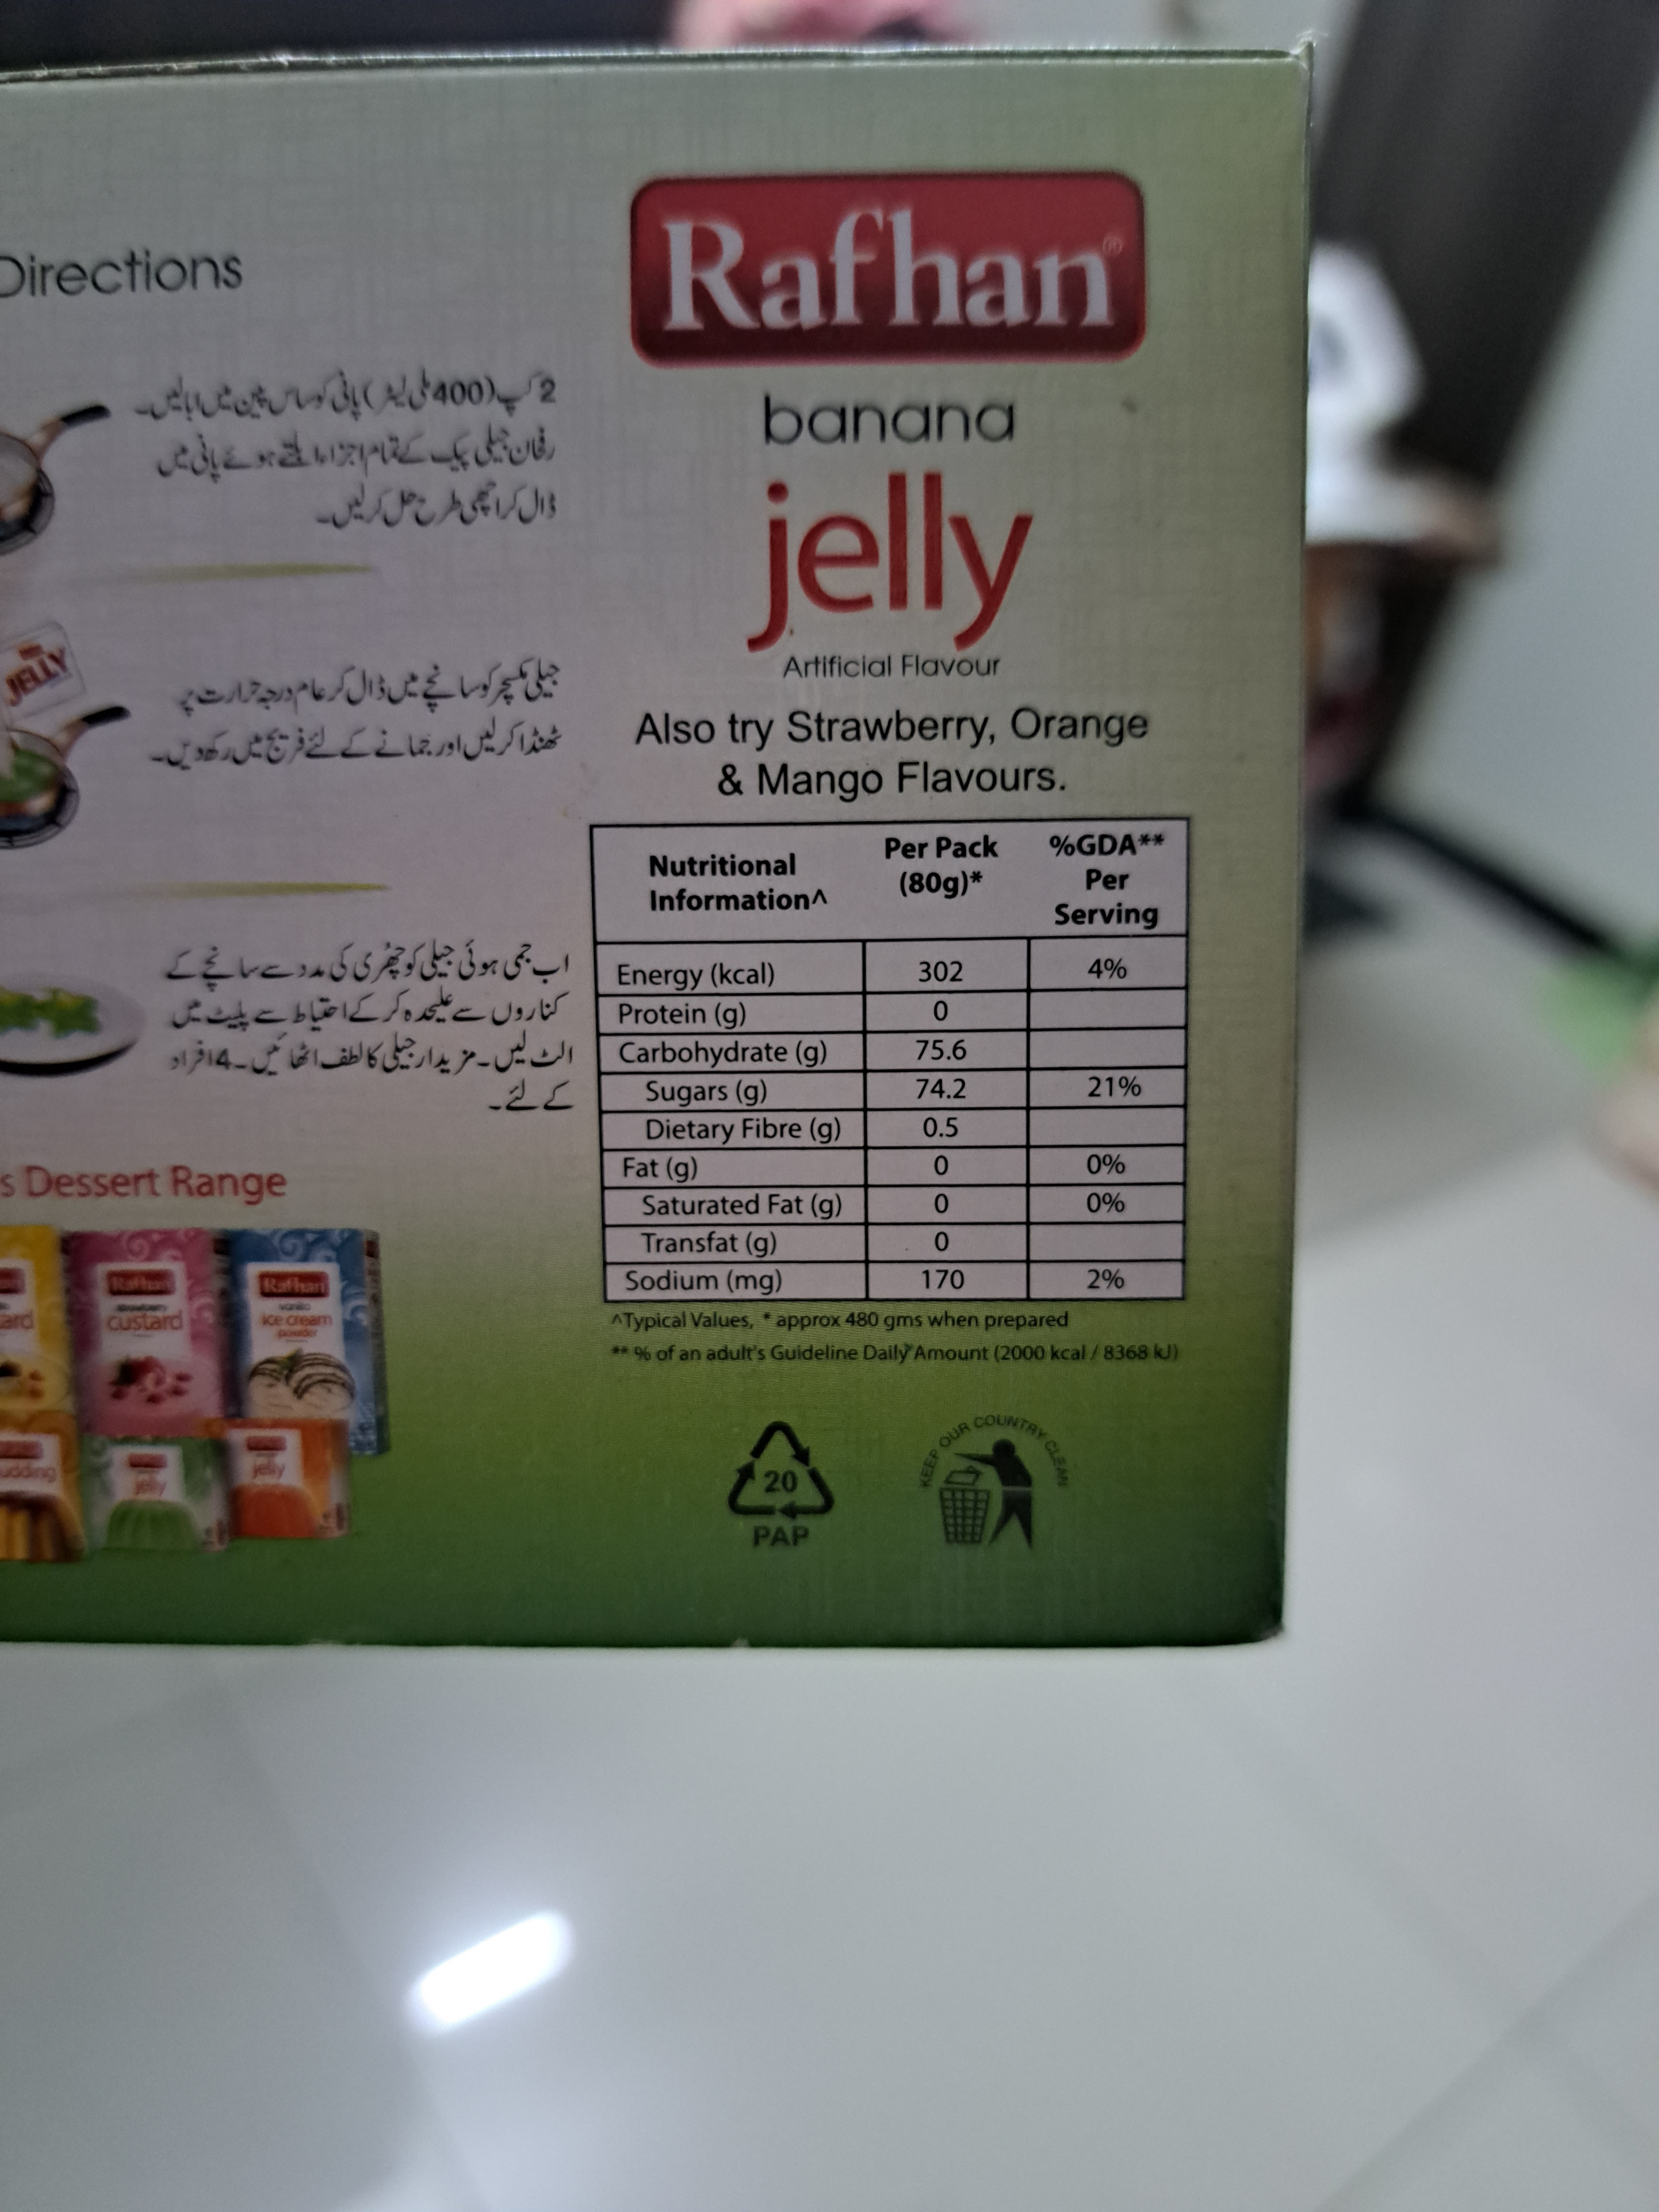table: (582, 817, 1197, 1308)
